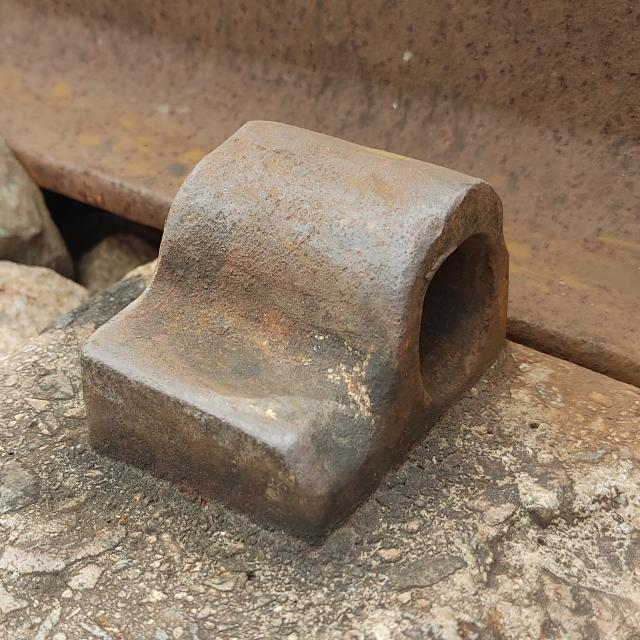track_bolt_missing: (140, 114, 516, 382)
